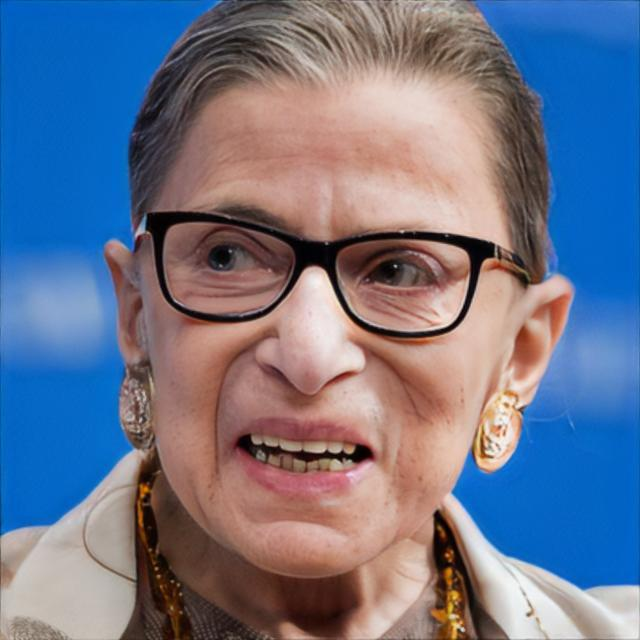disgust: (138, 76, 513, 577)
